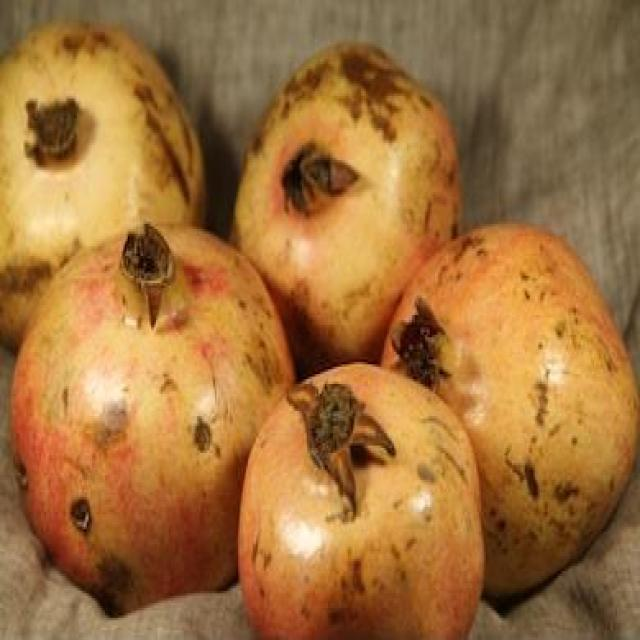overripe: (11, 210, 273, 621), (389, 222, 640, 598), (225, 38, 463, 348), (241, 356, 485, 640), (0, 15, 213, 206)
